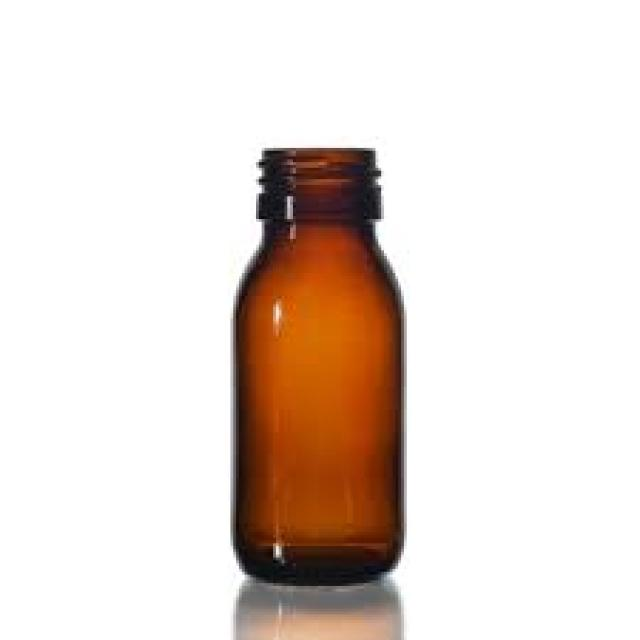glass: (230, 145, 401, 586)
